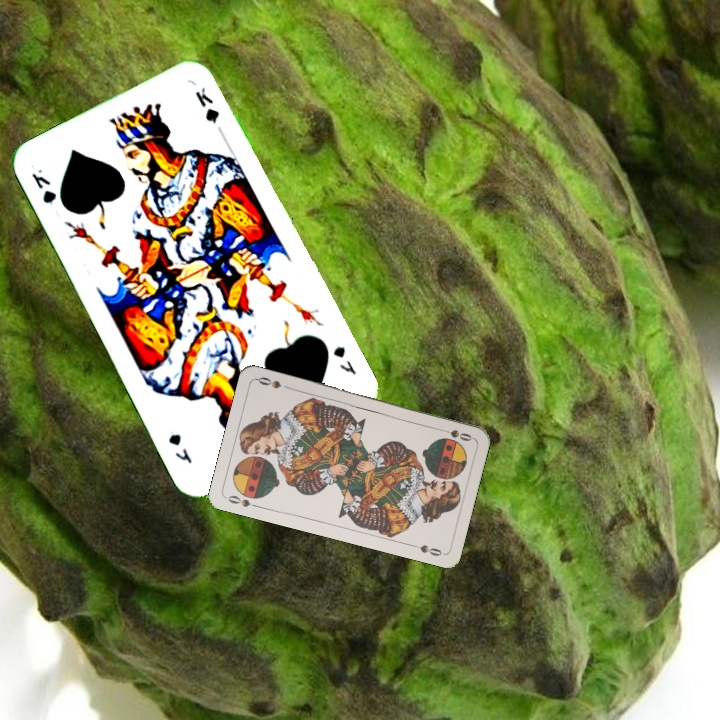GK: (27, 164, 60, 206), (329, 342, 359, 378)
SO: (435, 424, 475, 444), (224, 491, 262, 510)
